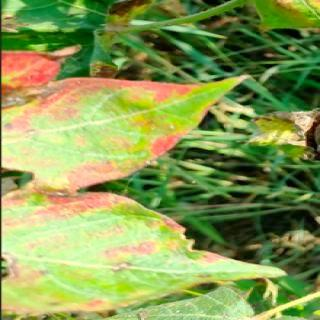blight: (0, 44, 256, 319)
